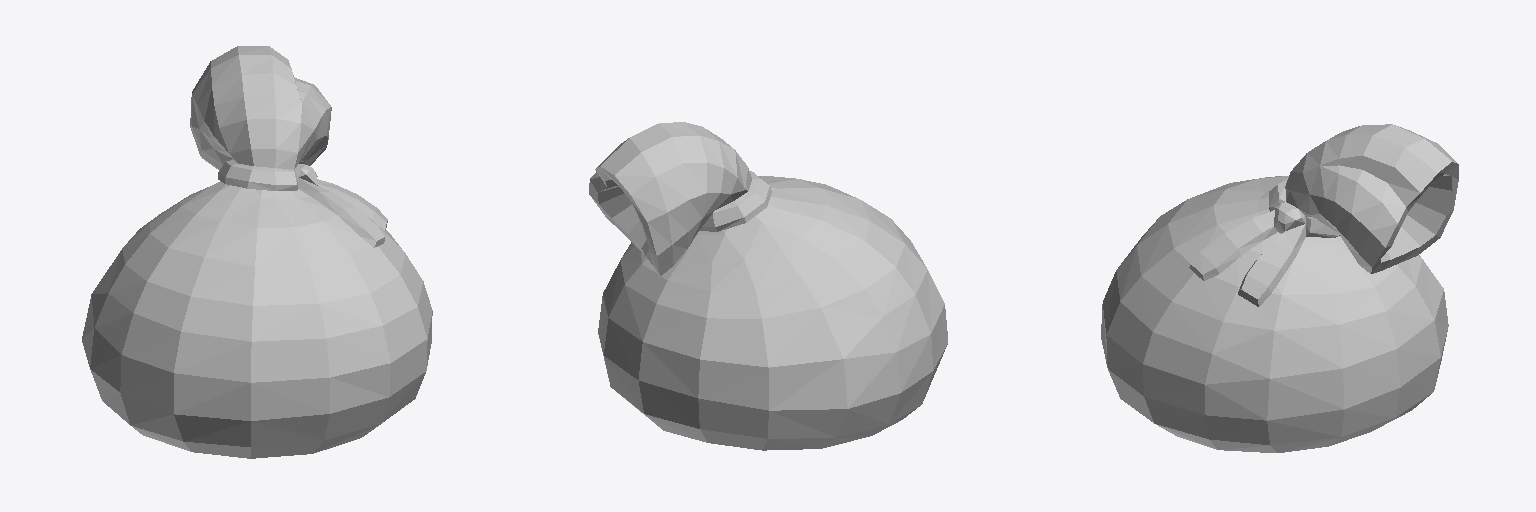
File: bellBag.obj
The picture shows the model from 3 angles: view 1: azimuth 30°, elevation 25°; view 2: azimuth 150°, elevation 25°; view 3: azimuth 270°, elevation 25°; orthographic projection.
Parts seen in each view (by area): view 1: Body__mBody; view 2: Body__mBody; view 3: Body__mBody.
Part boxes in pixels (bbox=[...]): Body__mBody: bbox=[82, 46, 432, 458]; Body__mBody: bbox=[589, 122, 947, 450]; Body__mBody: bbox=[1101, 124, 1458, 452].
Size of the model in its own units: 4.66 by 4.48 by 4.81.